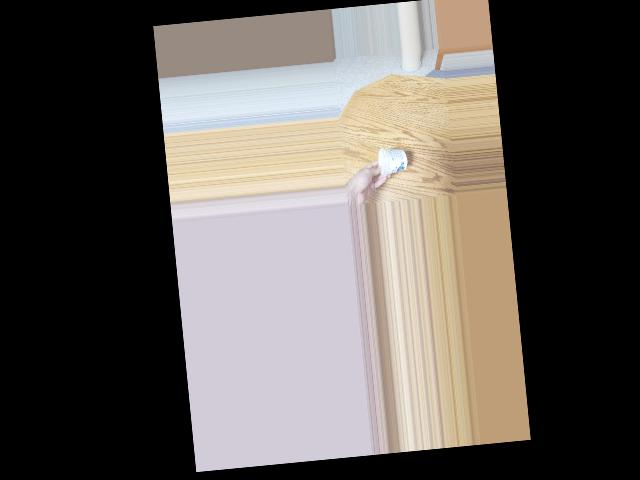cotage: (377, 140, 407, 171)
